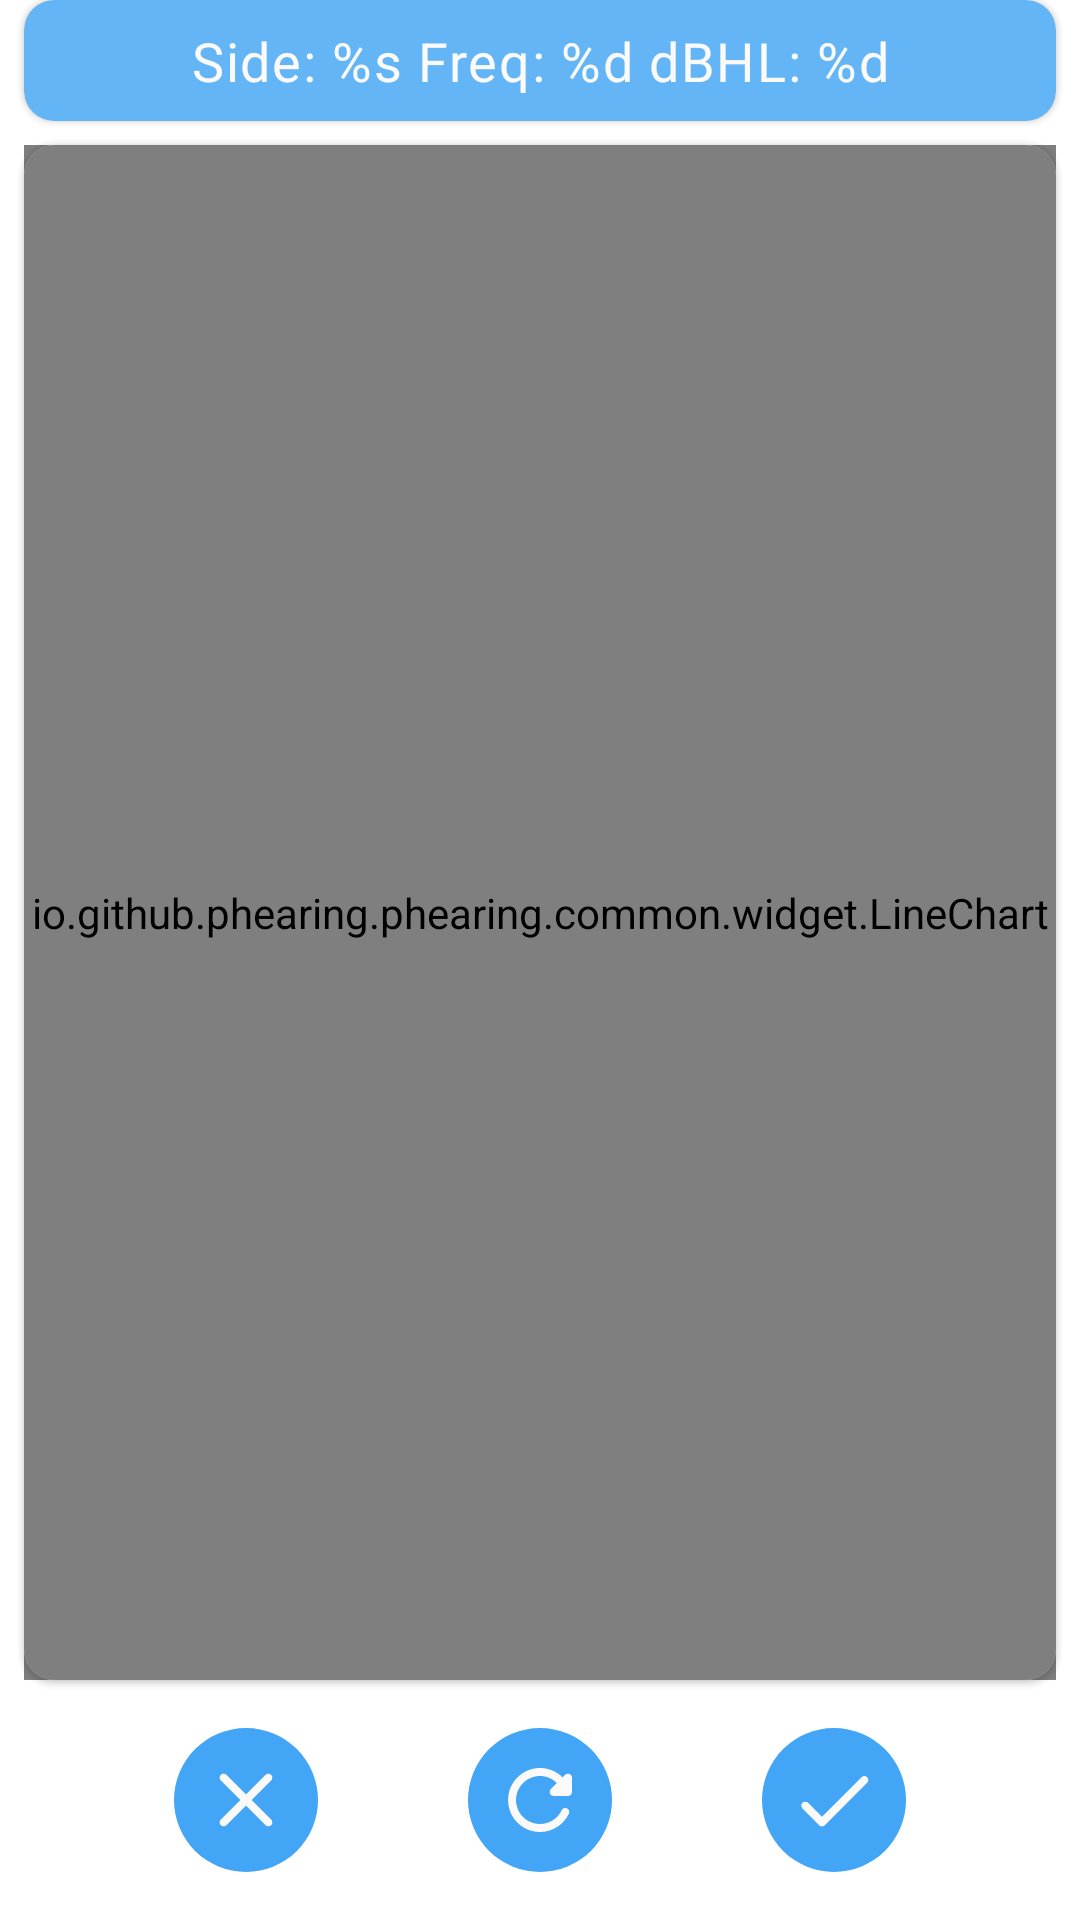

Point at icon controls on the screen. Image size 1080×1920, points as (x,y).
heard: (834,1800)
replay: (540,1800)
unheard: (246,1800)
